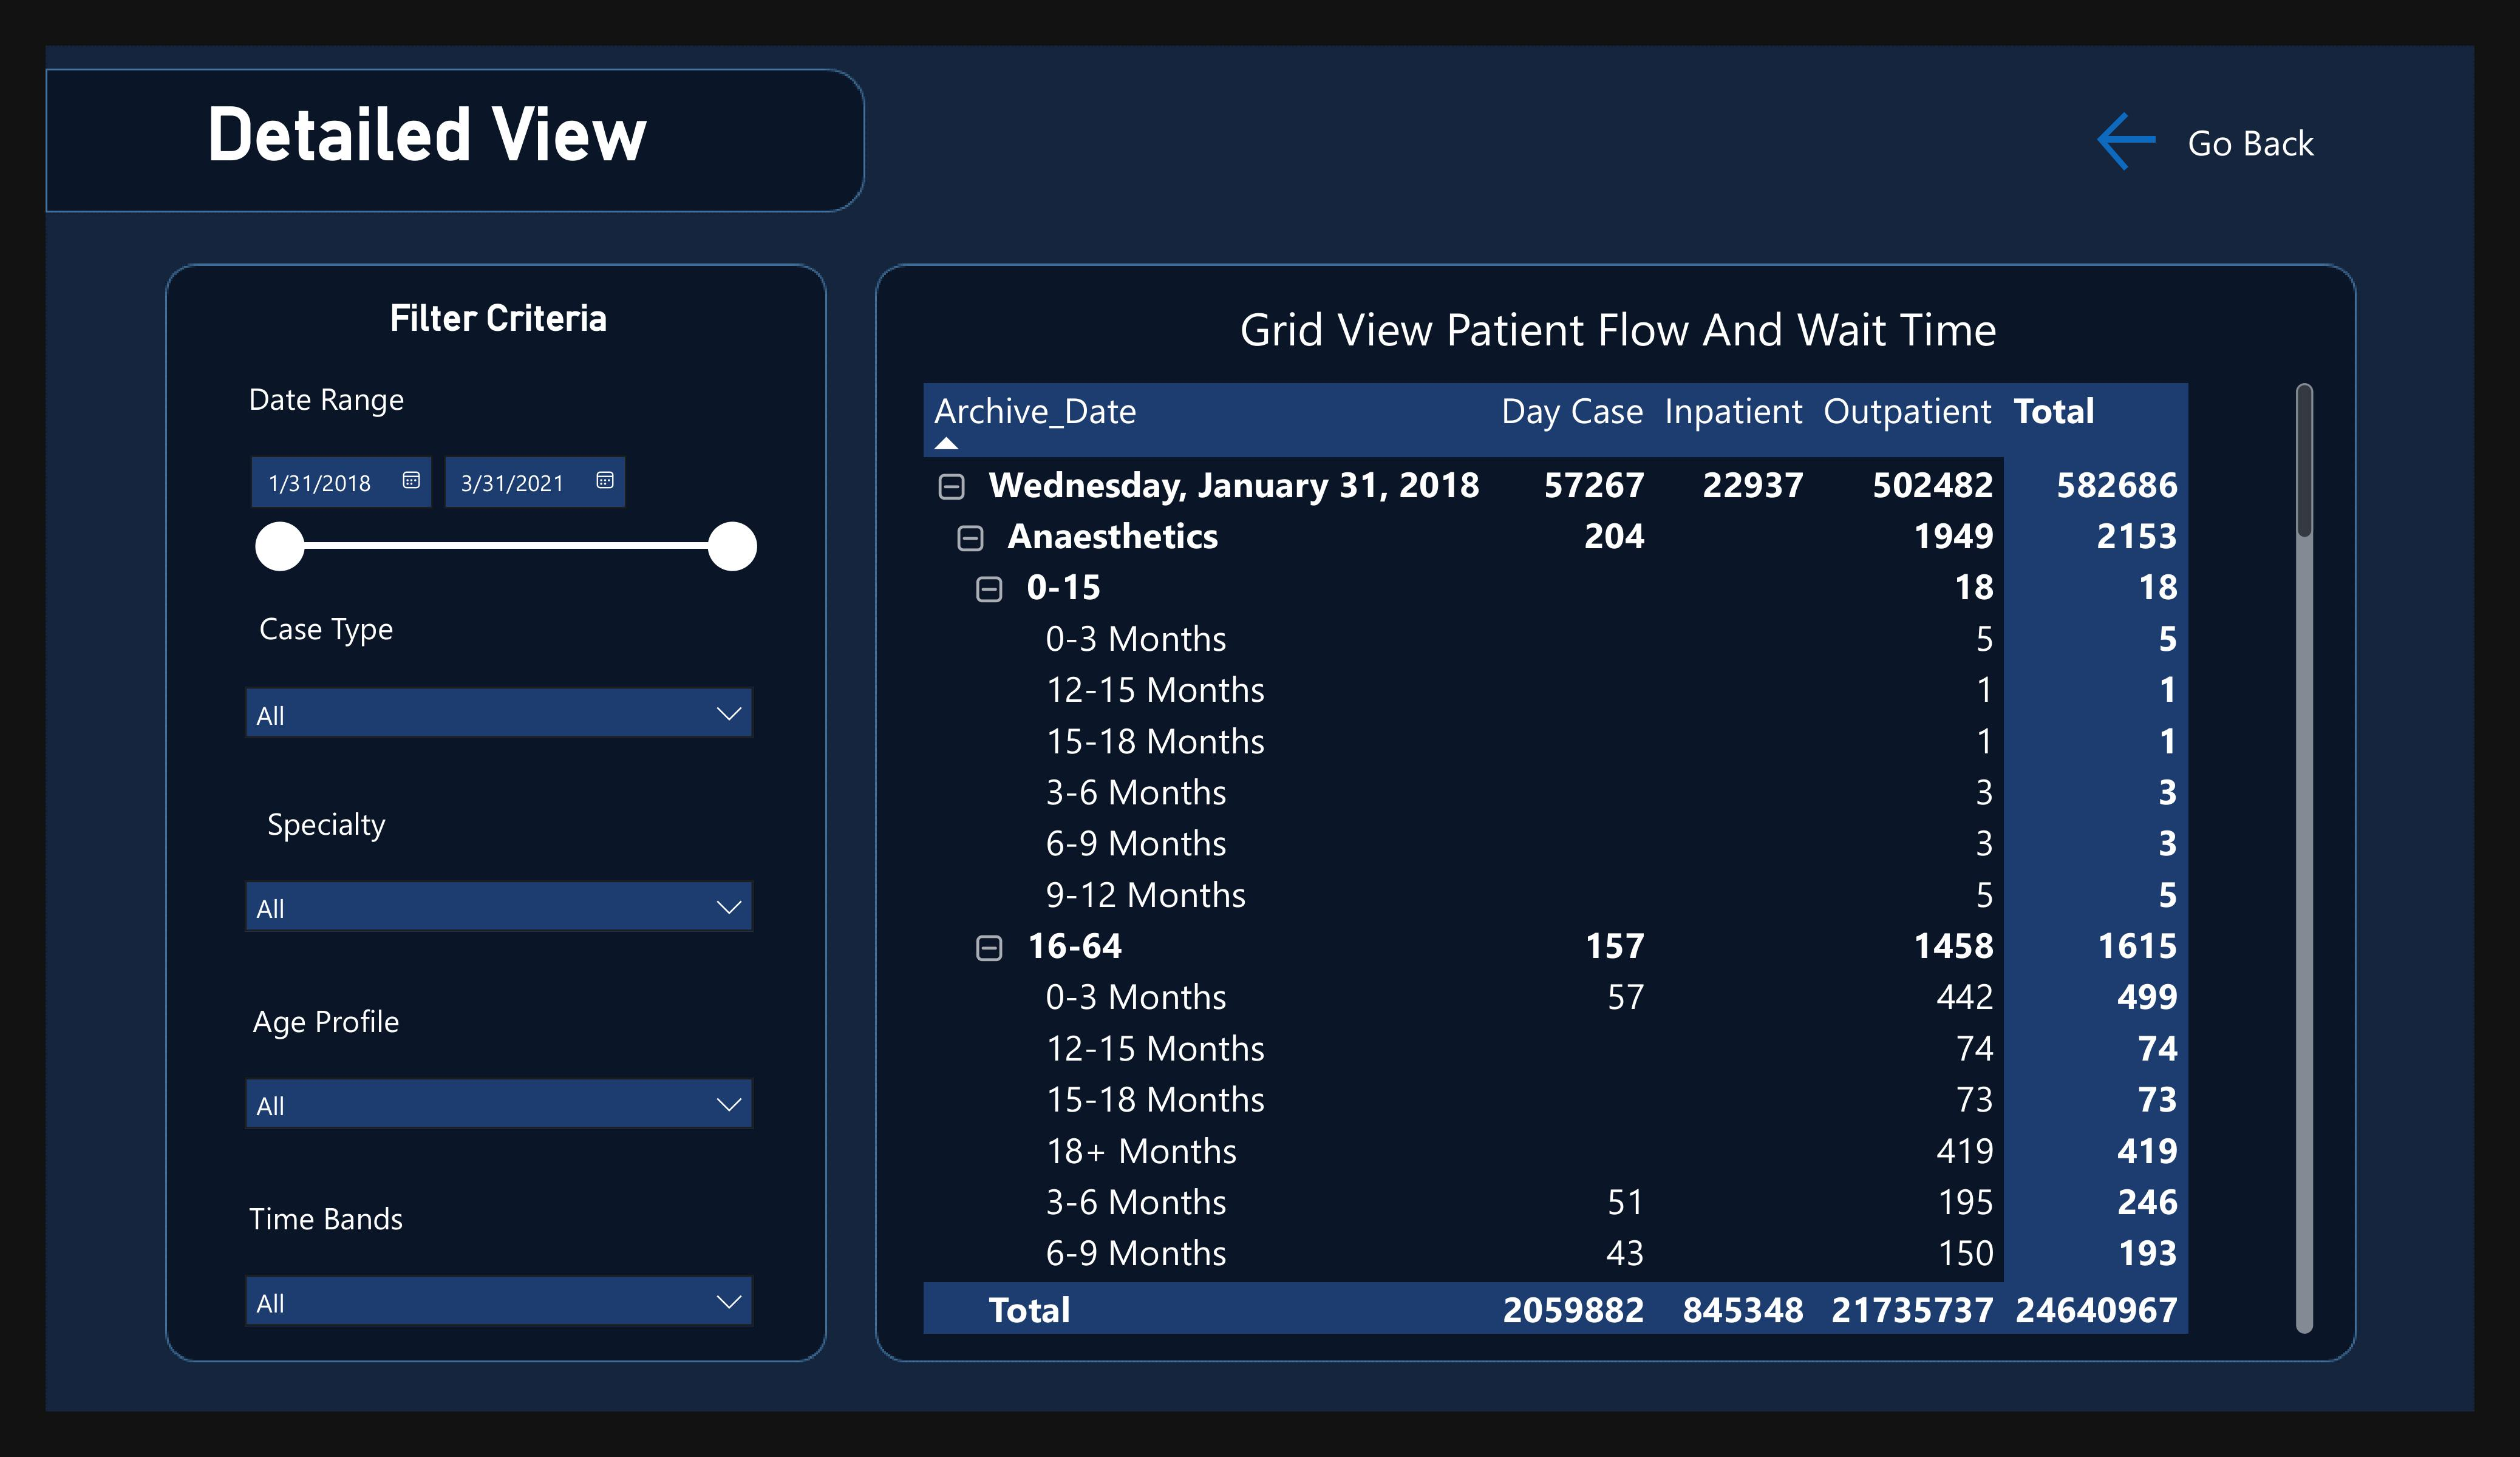

What the dashboard file says about the page in this screenshot:
{"tool":"powerbi","page":{"name":"Detailed Page","canvas":[1280,720],"ordinal":1},"visuals":[{"type":"textbox","box":[49.2,18.8,303.6,63.6],"z":0},{"type":"slicer","fields":{"Values":["all_data.Archive_Date"]},"box":[95.4,205.7,287.7,95.4],"z":0,"group":"g1"},{"type":"slicer","fields":{"Values":["all_data.Case_Type"]},"box":[95.4,327.2,287.7,59.3],"z":1000,"group":"g1"},{"type":"pivotTable","fields":{"Rows":["all_data.Archive_Date","all_data.Specialty_Name","all_data.Age_Profile","all_data.Time_Bands"],"Columns":["all_data.Case_Type"],"Values":["Sum(all_data.Total)"]},"box":[458.3,173.5,741.7,510.4],"z":1000},{"type":"textbox","box":[615.9,127.2,426.5,47.7],"z":2000},{"type":"slicer","fields":{"Values":["all_data.Specialty_Name"]},"box":[95.4,429.8,287.7,56.4],"z":2000,"group":"g1"},{"type":"group","id":"g1","title":"Group 1","box":[95.4,169.6,287.7,524.8],"z":3000},{"type":"textbox","box":[163.4,127.2,151.8,41.9],"z":4000},{"type":"slicer","fields":{"Values":["all_data.Age_Profile"]},"box":[95.4,533.9,287.7,59.3],"z":4000,"group":"g1"},{"type":"actionButton","box":[1077.1,30.4,122.9,40.5],"z":5000},{"type":"slicer","fields":{"Values":["all_data.Time_Bands"]},"box":[95.4,638,287.7,56.4],"z":5000,"group":"g1"},{"type":"textbox","box":[95.4,169.6,105.5,36.1],"z":8000,"group":"g1"},{"type":"textbox","box":[95.4,291,105.5,36.1],"z":9000,"group":"g1"},{"type":"textbox","box":[95.4,393.7,105.5,36.1],"z":10000,"group":"g1"},{"type":"textbox","box":[95.4,497.8,105.5,36.1],"z":11000,"group":"g1"},{"type":"textbox","box":[95.4,601.9,105.5,36.1],"z":12000,"group":"g1"}]}

Visuals, with their boxes in screenshot pixels (x1, y1, x2, y2):
textbox: region(139, 81, 715, 202)
slicer - all_data.Archive_Date: region(226, 436, 772, 617)
slicer - all_data.Case_Type: region(226, 667, 772, 779)
pivotTable - all_data.Archive_Date x all_data.Specialty_Name: region(915, 375, 2323, 1343)
textbox: region(1214, 287, 2024, 378)
slicer - all_data.Specialty_Name: region(226, 861, 772, 968)
"Group 1" group: region(226, 367, 772, 1363)
textbox: region(356, 287, 644, 366)
slicer - all_data.Age_Profile: region(226, 1058, 772, 1171)
actionButton: region(2089, 103, 2323, 180)
slicer - all_data.Time_Bands: region(226, 1256, 772, 1363)
textbox: region(226, 367, 427, 436)
textbox: region(226, 597, 427, 666)
textbox: region(226, 792, 427, 861)
textbox: region(226, 990, 427, 1058)
textbox: region(226, 1187, 427, 1256)
